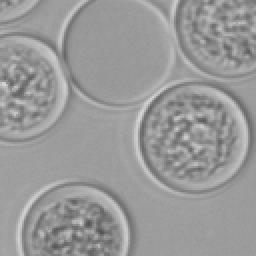picoshell: (134, 82, 250, 192), (62, 0, 174, 104), (16, 180, 130, 254), (0, 36, 66, 142), (174, 0, 254, 78)
